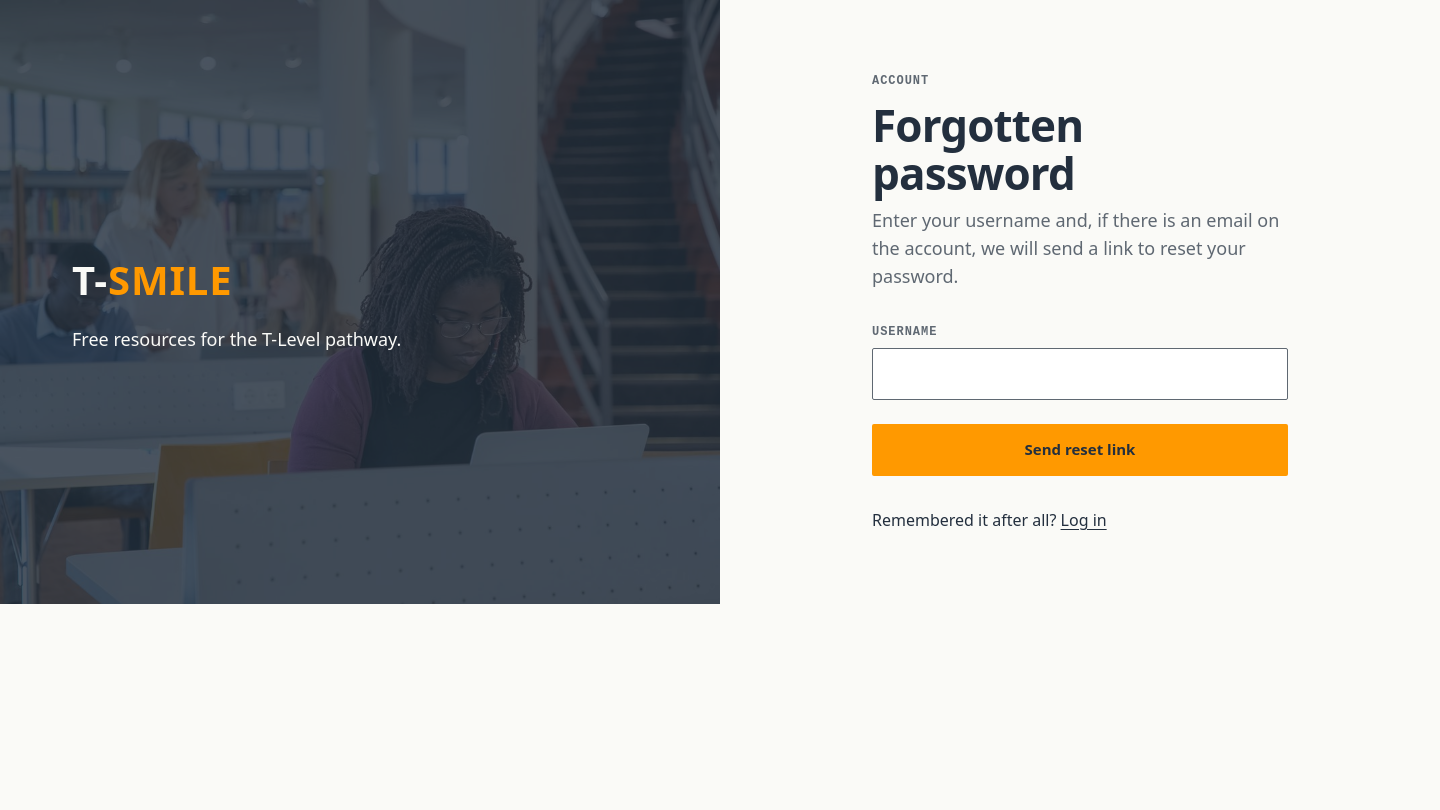
Forgotten password › shows a server error rather than the confirmation on failure
The image size is (1440, 810).
In the field labelled "Username": x=1080, y=374 [872,348,1288,400], type "ada"
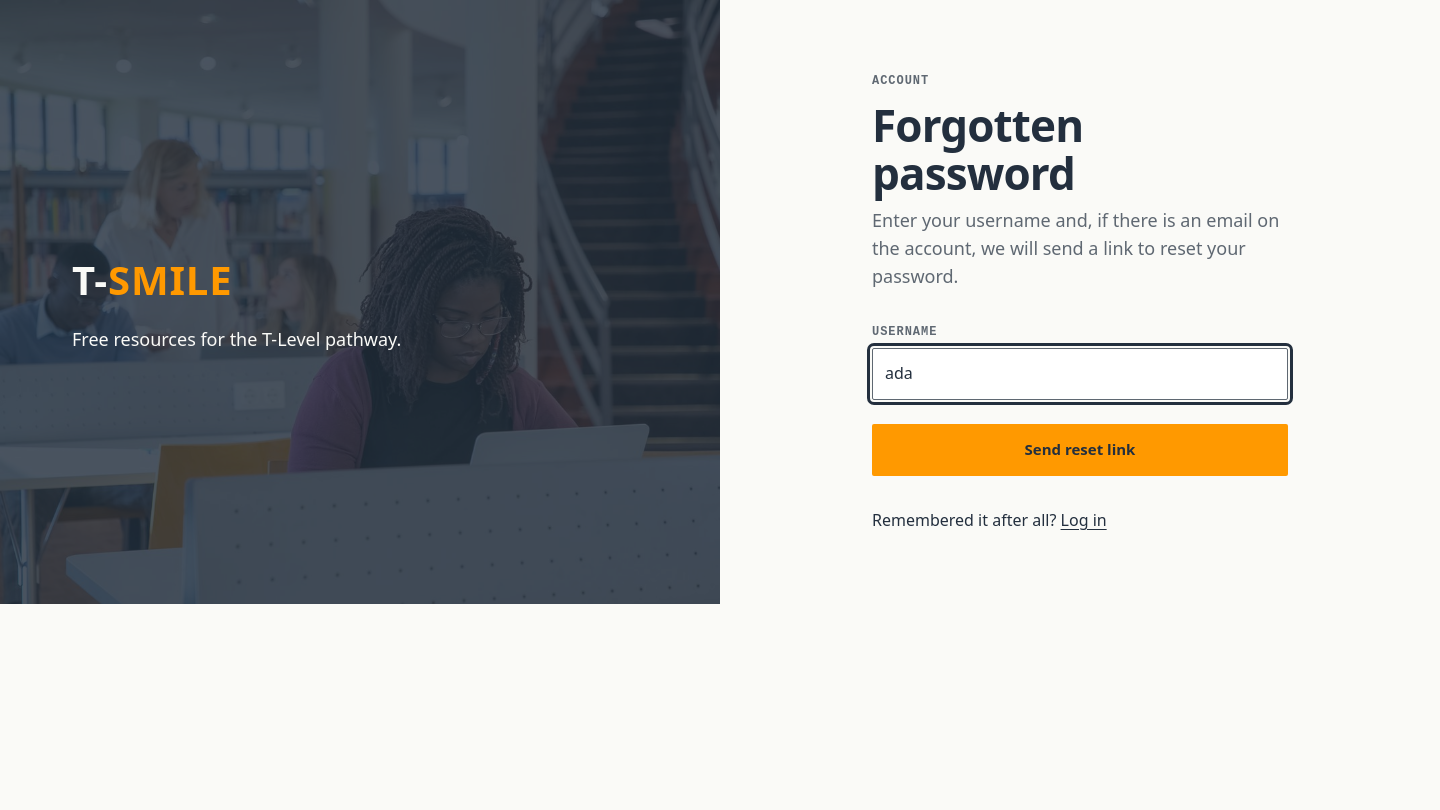
Click the button "Send reset link": x=1080, y=450 [872,424,1288,476]
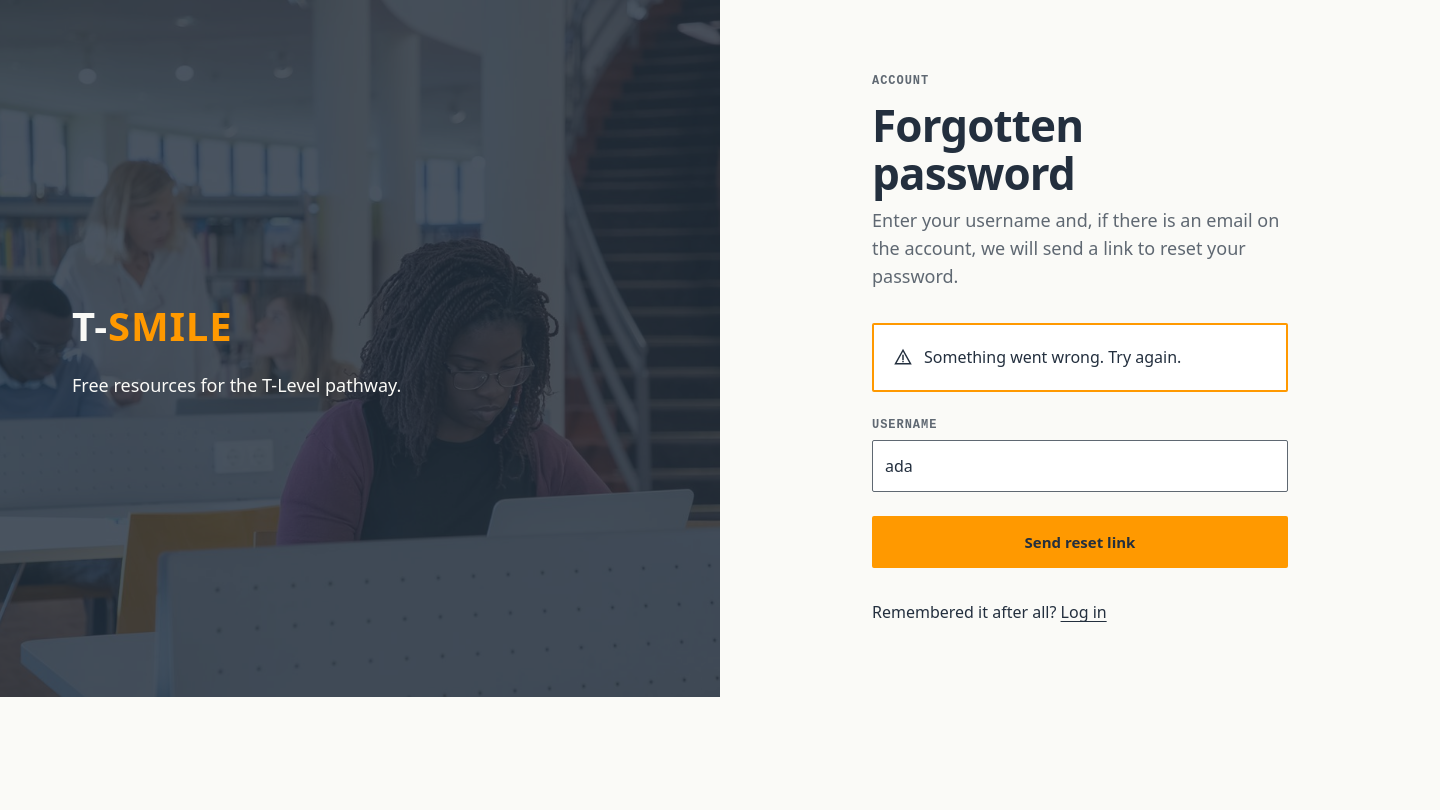
Expected: the message shows "Something went wrong", [924,346,1181,368]
